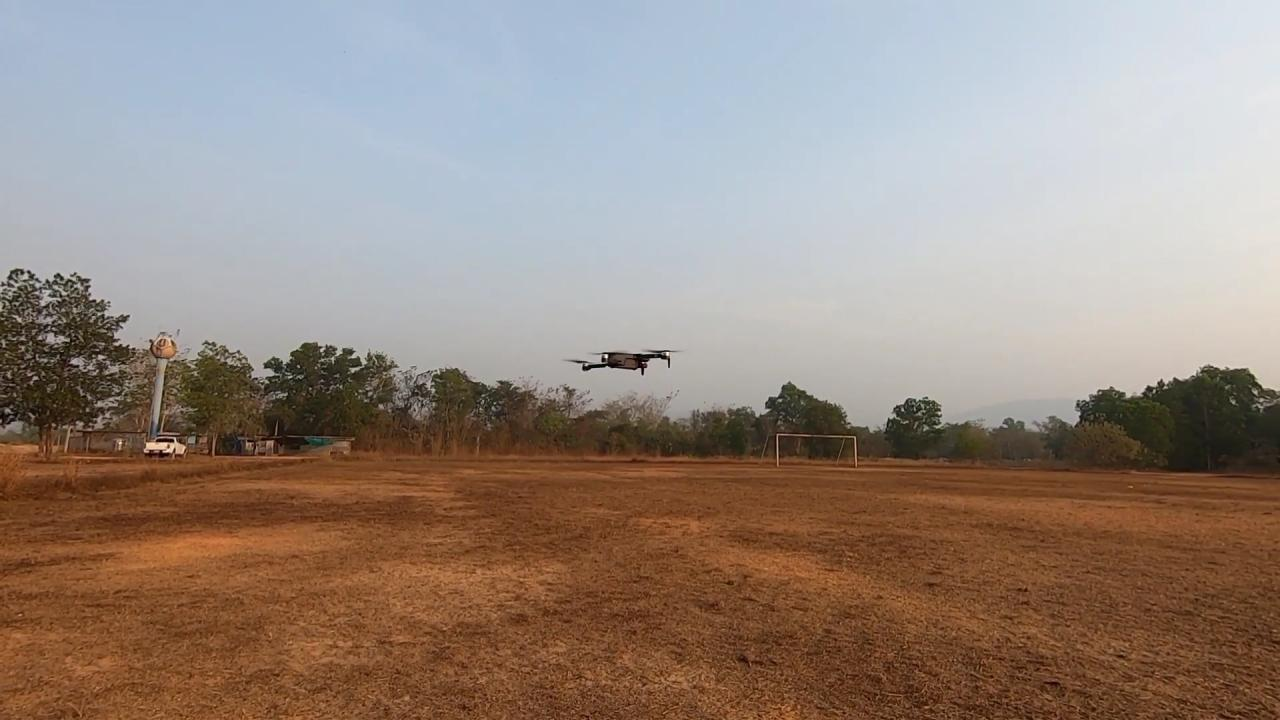Drone: (561, 338, 682, 384)
